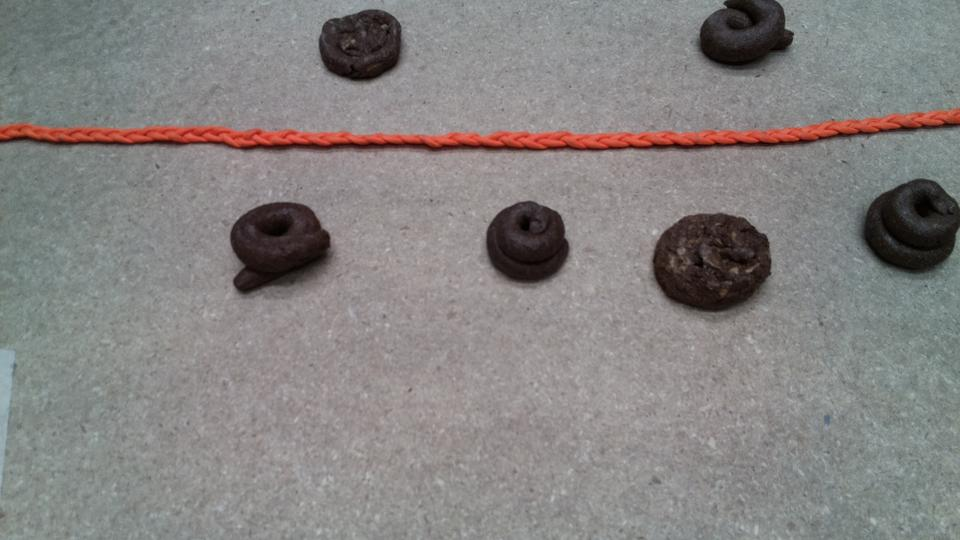poop: (649, 211, 774, 317), (229, 198, 340, 299), (856, 172, 960, 276), (480, 194, 574, 288), (697, 1, 804, 77), (314, 6, 406, 83)
rope: (3, 106, 960, 160)
